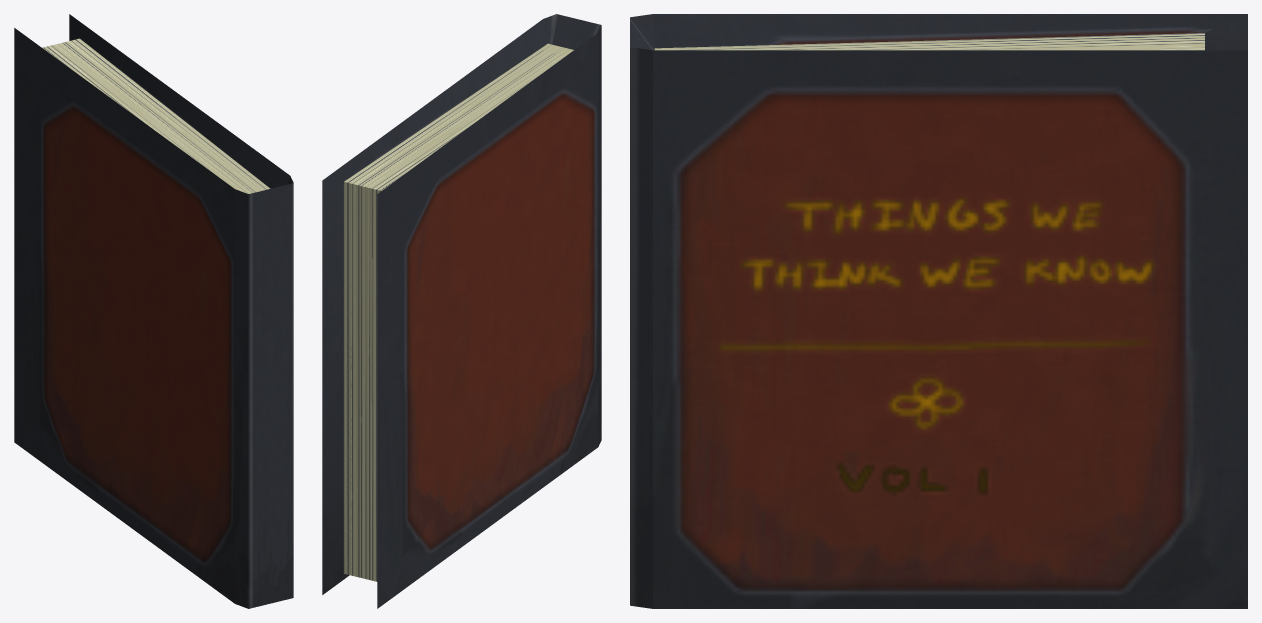
The model's file is e_asset_book_doknow.fbx.
3 renders of one model, left to right at view 1: azimuth 30°, elevation 25°; view 2: azimuth 150°, elevation 25°; view 3: azimuth 270°, elevation 25°, orthographic. The views are drawn at different scales.
Parts seen in each view (by area): view 1: pCube125; view 2: pCube125; view 3: pCube125.
Part boxes in pixels (box(x1,y1,x2,y2)): pCube125: box(14, 14, 293, 608); pCube125: box(322, 14, 601, 608); pCube125: box(630, 14, 1247, 608).
Size of the model in its own units: 0.0289 by 0.2072 by 0.2077.
